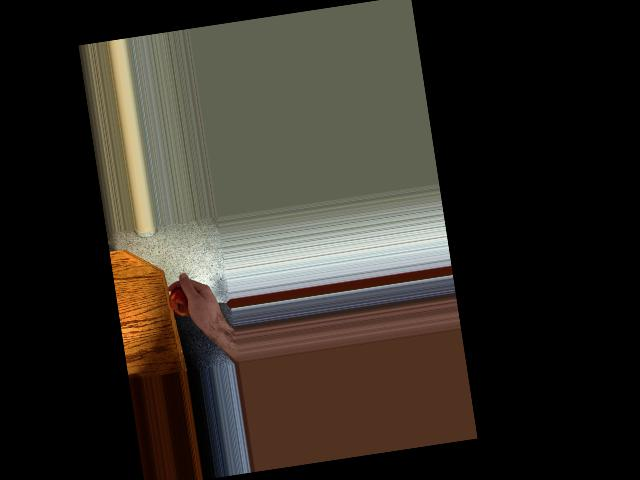apple: (166, 282, 203, 324)
